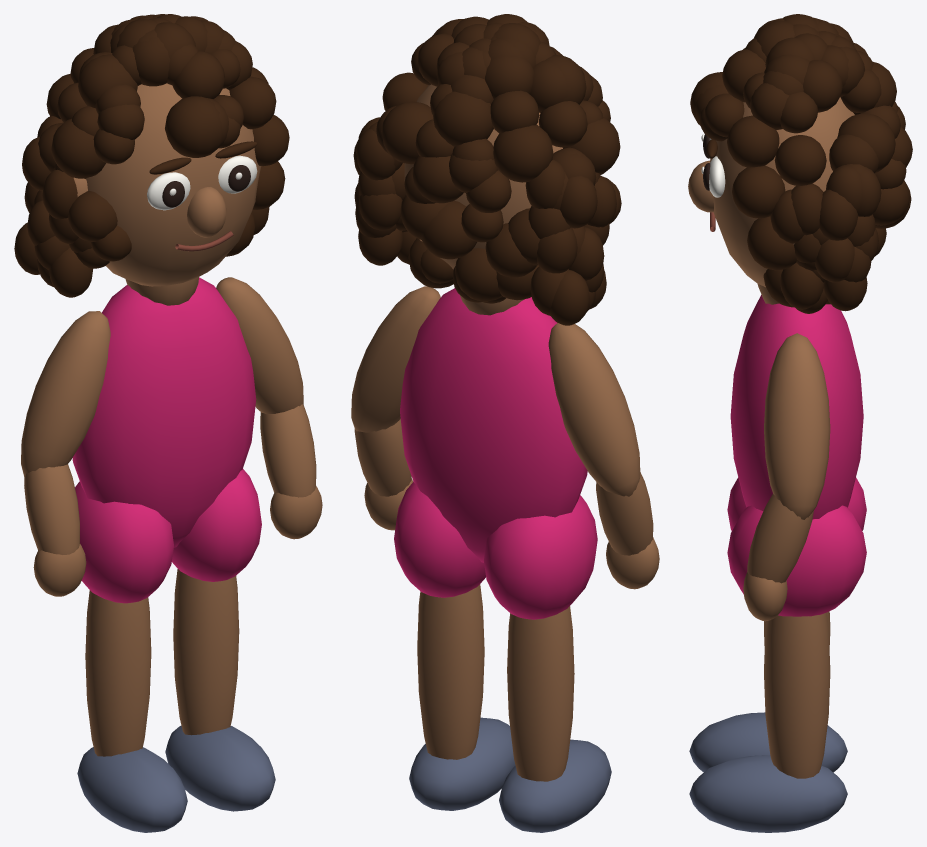
File: ella.glb
The picture shows the model from 3 angles, left to right: view 1: azimuth 30°, elevation 25°; view 2: azimuth 150°, elevation 25°; view 3: azimuth 270°, elevation 25°; orthographic projection. The views are drawn at different scales.
Visible parts, largest first — view 1: Ella character mesh; view 2: Ella character mesh; view 3: Ella character mesh.
Part boxes in pixels (x1,y1,x2,y2): Ella character mesh: (14,14,322,832); Ella character mesh: (351,14,659,832); Ella character mesh: (688,14,912,832).
Bounding box in the file's own units: 0.9823 × 2.59 × 0.6737.
